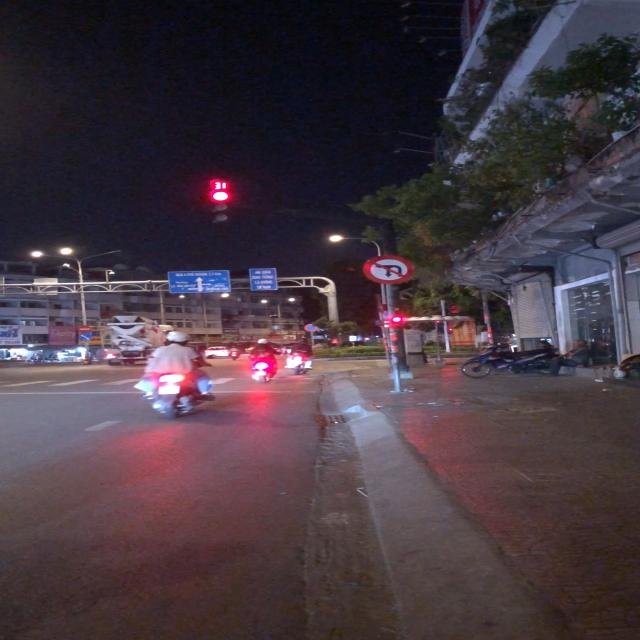Bien bao cam re trai va quay dau: (360, 255, 418, 285)
